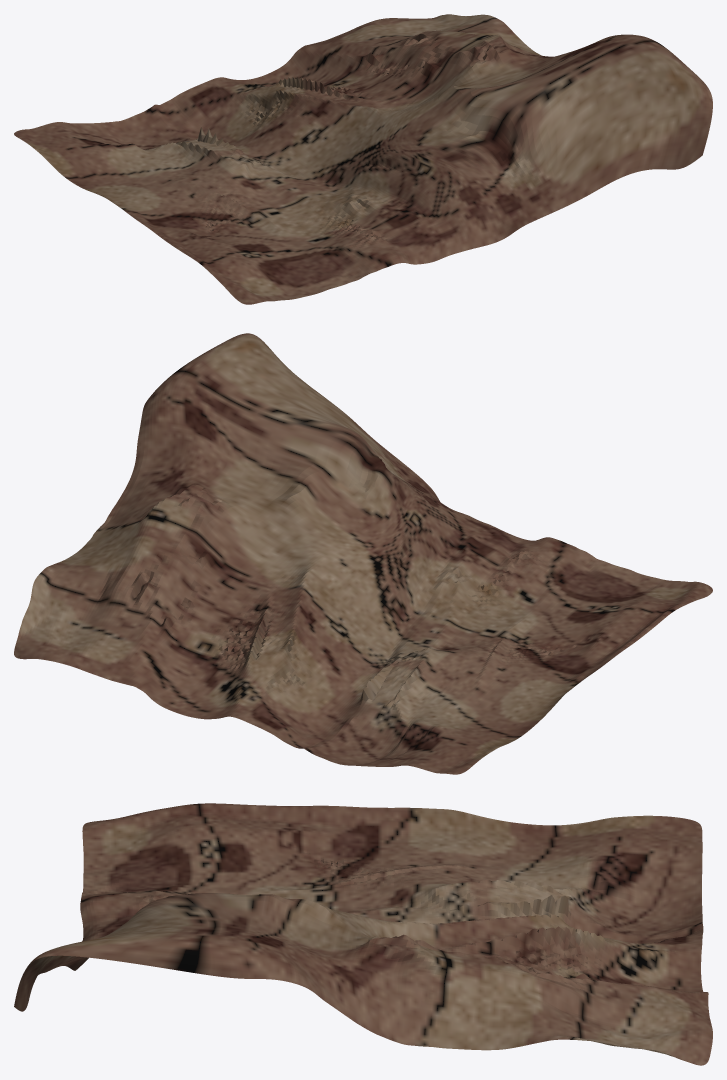
The model's file is cave.fbx.
3 renders of one model, top to bottom at view 1: azimuth 30°, elevation 25°; view 2: azimuth 150°, elevation 25°; view 3: azimuth 270°, elevation 25°, orthographic. The views are drawn at different scales.
Visible parts, largest first — view 1: Plane; view 2: Plane; view 3: Plane.
Part boxes in pixels (box(x1,y1,x2,y2)): Plane: box(14, 14, 712, 304); Plane: box(14, 333, 712, 774); Plane: box(14, 803, 712, 1065).
Size of the model in its own units: 455 by 137 by 451.
